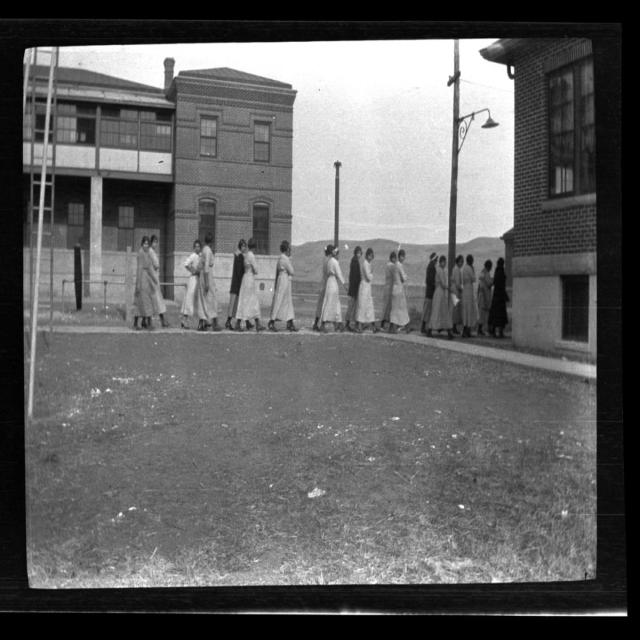body: (264, 238, 302, 335), (234, 237, 268, 333), (224, 238, 256, 332), (196, 232, 223, 332), (426, 254, 457, 341), (319, 245, 349, 334), (352, 246, 382, 334), (131, 233, 156, 335), (146, 233, 172, 329), (487, 254, 514, 343), (388, 248, 415, 336), (179, 237, 204, 332), (268, 242, 297, 323), (387, 247, 413, 335), (312, 242, 335, 332), (419, 251, 441, 335), (476, 255, 497, 343), (343, 245, 363, 332), (461, 252, 478, 340), (449, 254, 465, 335)
